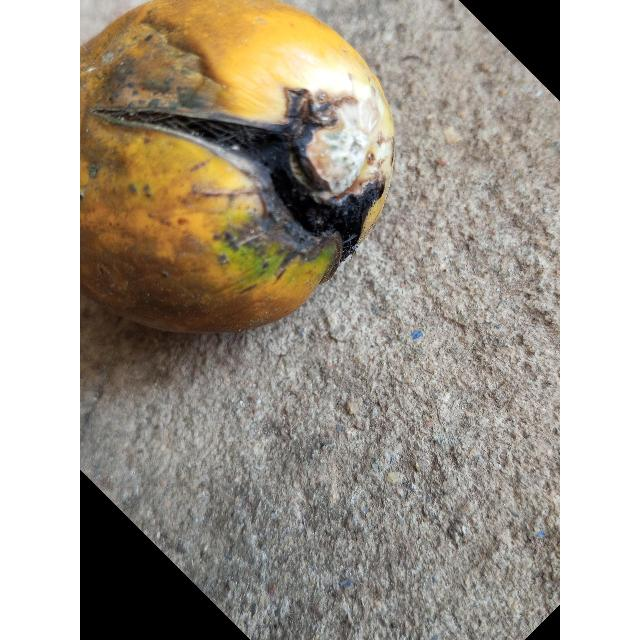damaged: (80, 0, 396, 336)
